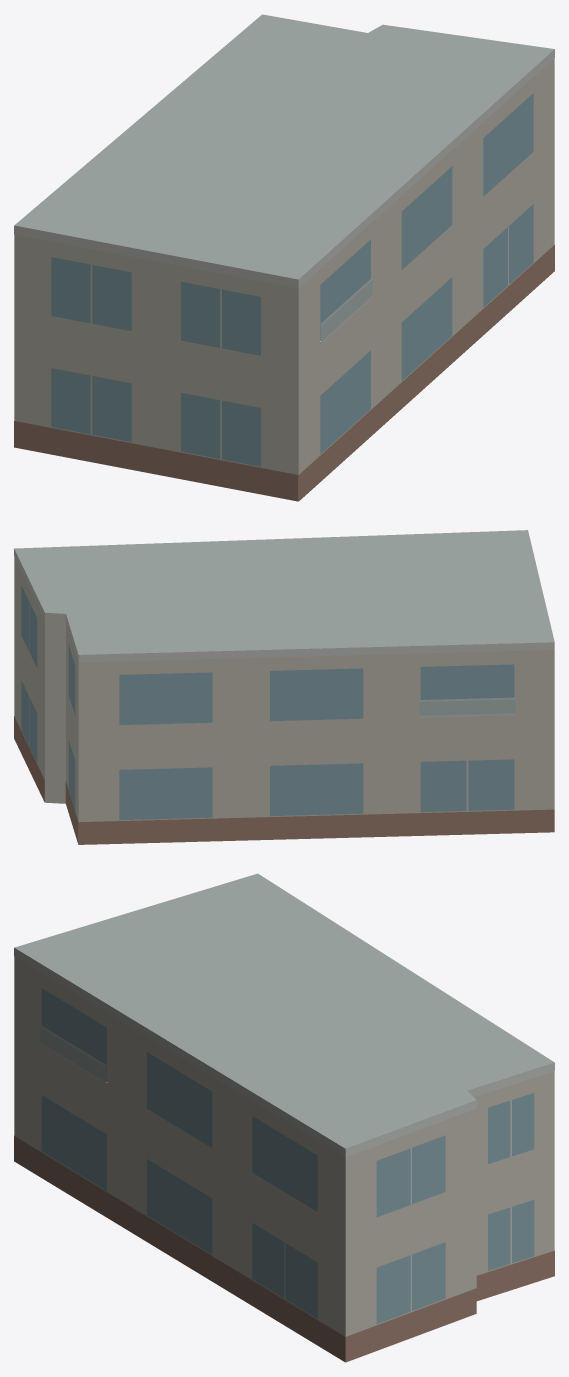
The model's file is survey-upis-32807218.glb.
The picture shows the model from 3 angles, top to bottom: view 1: azimuth 30°, elevation 25°; view 2: azimuth 150°, elevation 25°; view 3: azimuth 270°, elevation 25°; orthographic projection. The views are drawn at different scales.
Visible parts, largest first — view 1: survey-upis-32807218.tmp; view 2: survey-upis-32807218.tmp; view 3: survey-upis-32807218.tmp.
Part boxes in pixels (x1,y1,x2,y2): survey-upis-32807218.tmp: (14,14,554,501); survey-upis-32807218.tmp: (14,530,554,844); survey-upis-32807218.tmp: (14,873,554,1362).
Size of the model in its own units: 16.87 by 6.1 by 14.
